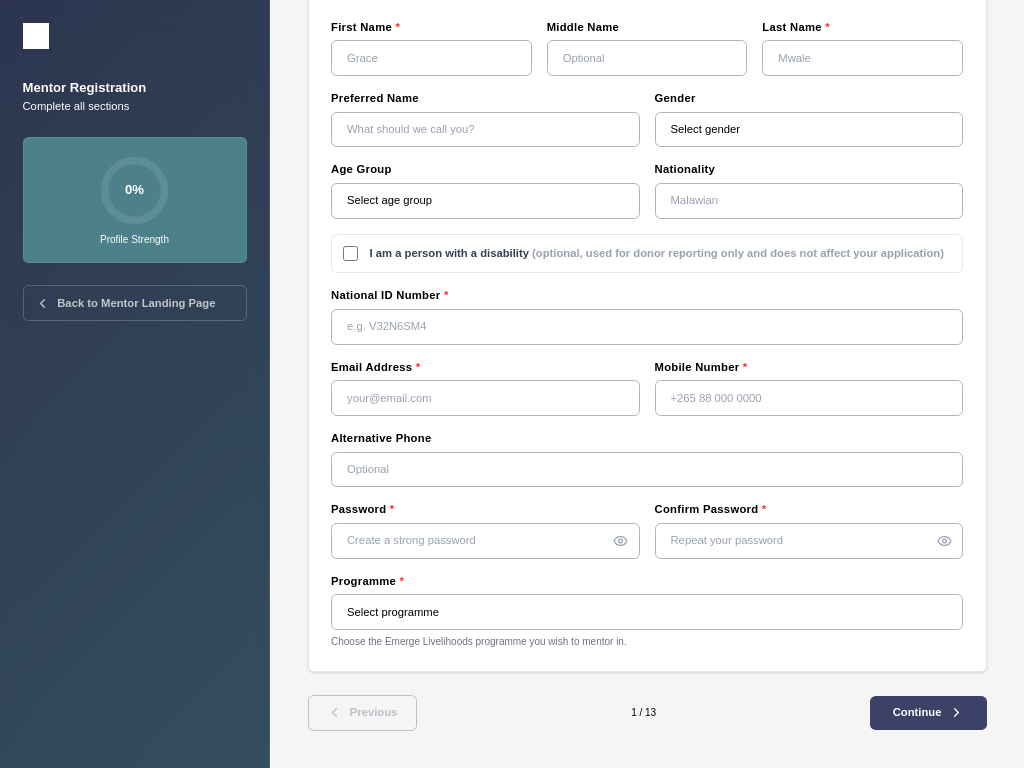
mentor registration asks which incubation project the mentor is applying to › shows the project list only for the Incubation programme
(page scrolled)
Expected: the field labelled "Incubation project" is not shown
Select "Incubation" in the 3rd dropdown at (647, 612), box [331, 594, 963, 630]
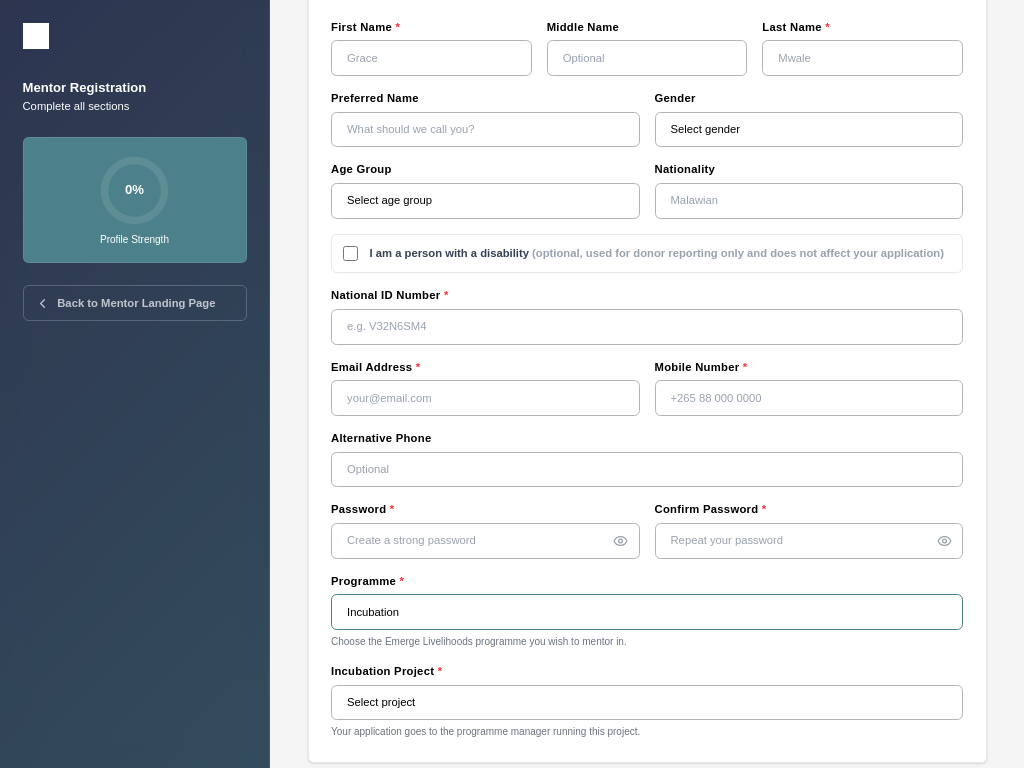
Select "Acceleration" in the 3rd dropdown at (647, 612), box [331, 594, 963, 630]
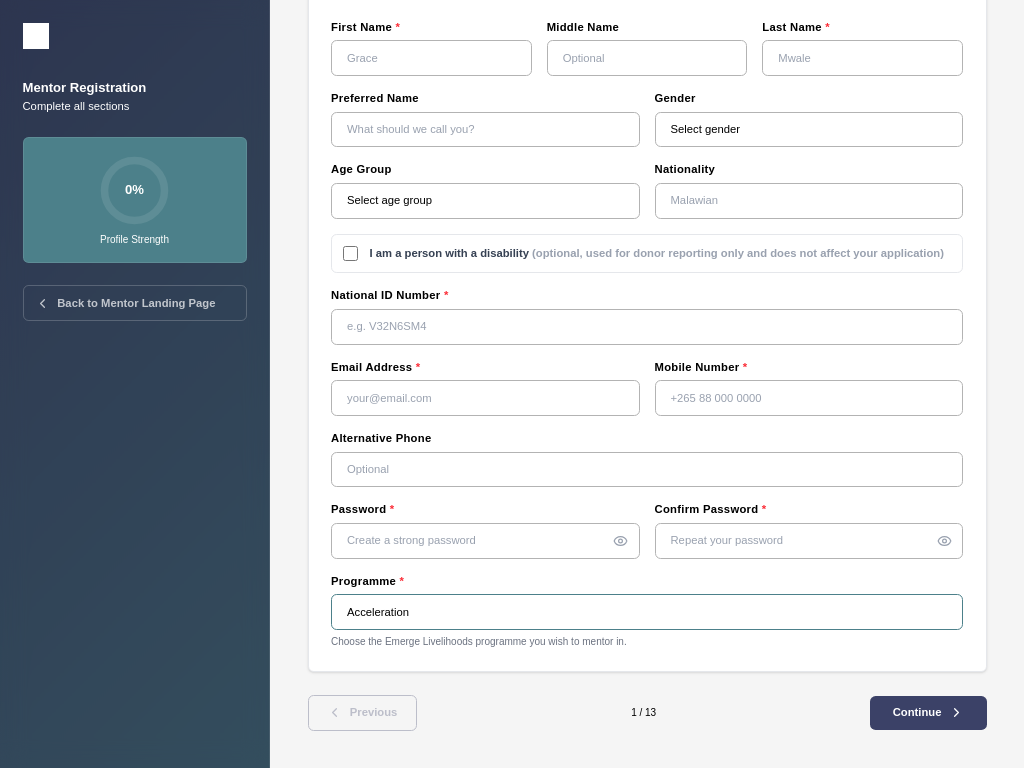
Now the label labelled "Incubation Project" is gone
